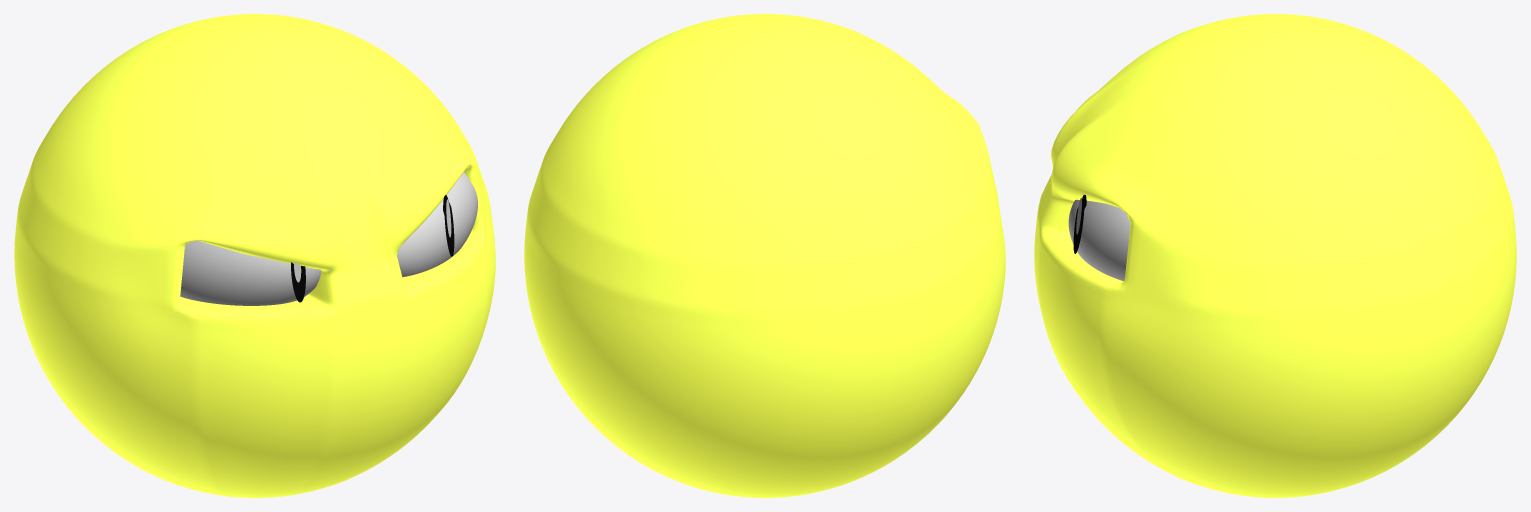
File: EnergiaLo.fbx
3 renders of one model, left to right at view 1: azimuth 30°, elevation 25°; view 2: azimuth 150°, elevation 25°; view 3: azimuth 270°, elevation 25°, orthographic.
Parts seen in each view (by area): view 1: Sphere, Sphere.002, Sphere.001; view 2: Sphere; view 3: Sphere, Sphere.001.
Part boxes in pixels (x1,y1,x2,y2): Sphere: (14,14,495,497); Sphere.002: (180,241,321,305); Sphere.001: (397,172,477,277); Sphere: (524,14,1005,497); Sphere: (1034,14,1516,497); Sphere.001: (1068,199,1130,281).
Bounding box in the file's own units: 198 × 200 × 198.
